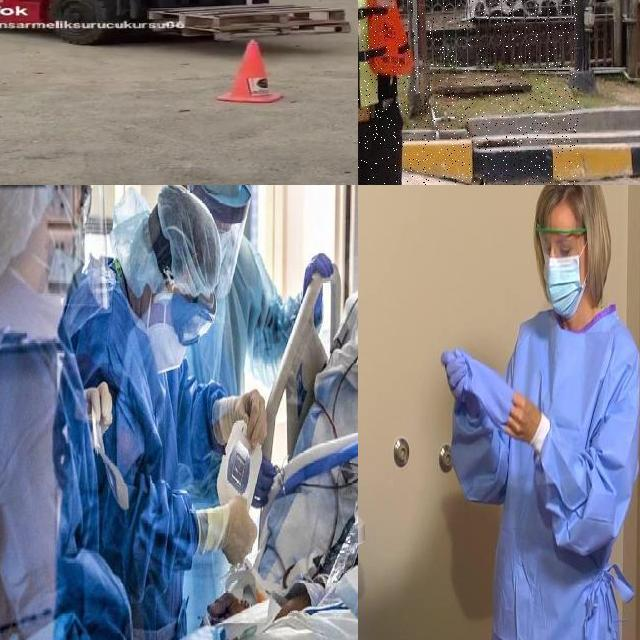GLOVE: (442, 340, 472, 412)
MASK: (540, 255, 588, 316), (144, 320, 188, 378)
VEST: (358, 0, 411, 108)
